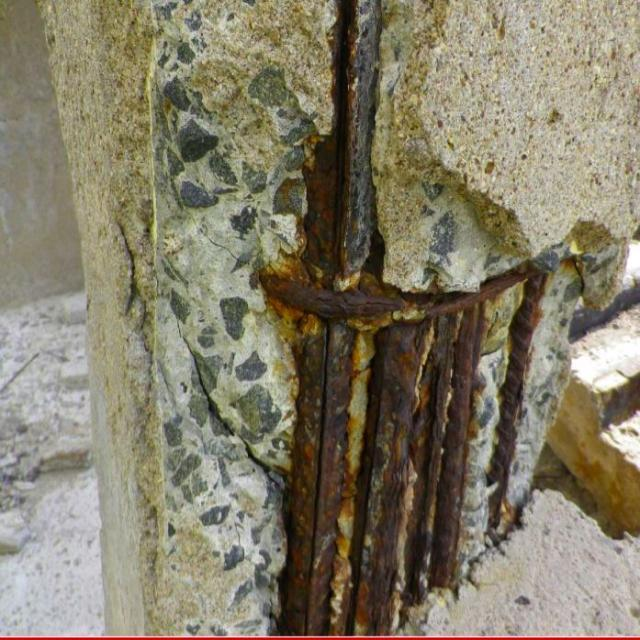corrosion: (264, 266, 532, 638)
